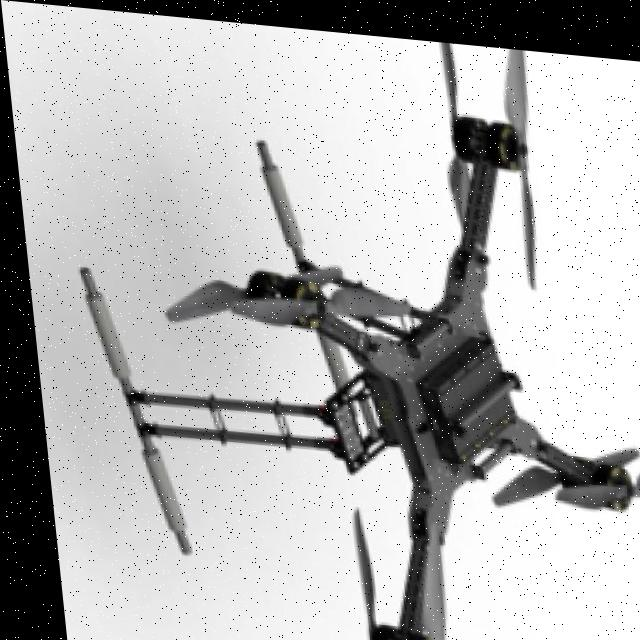drones: (51, 4, 640, 640)
